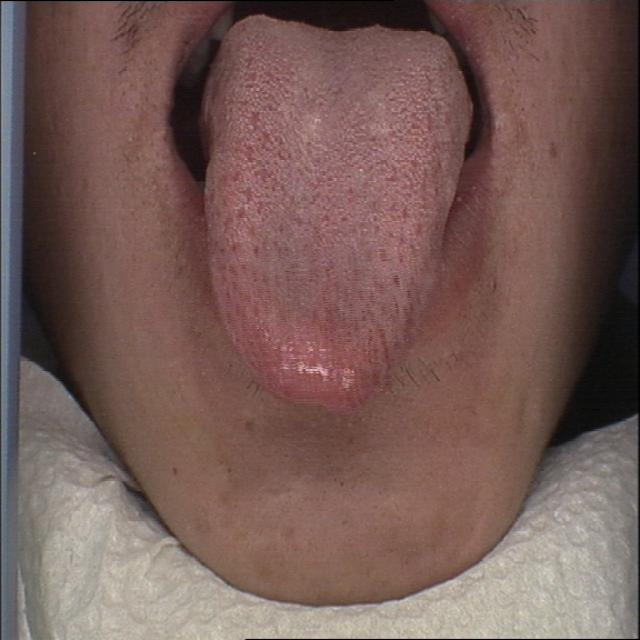tongue: (191, 8, 478, 422)
